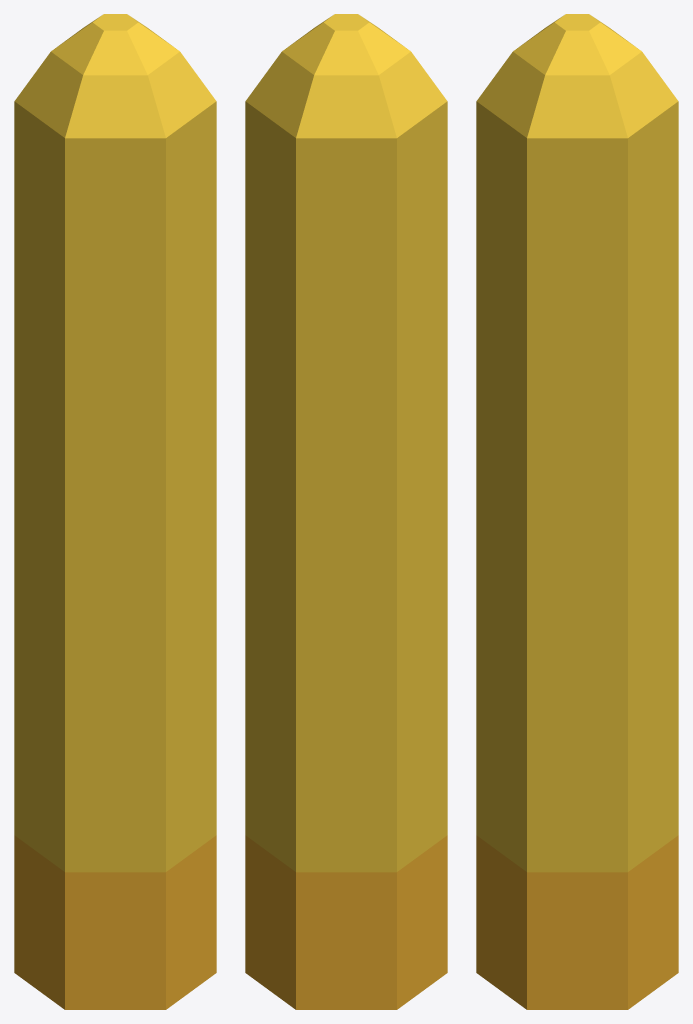
Rendered from fence.fbx.
3 views of the same model, side by side, from view 1: azimuth 30°, elevation 25°; view 2: azimuth 150°, elevation 25°; view 3: azimuth 270°, elevation 25° (orthographic).
Visible parts, largest first — view 1: Fence; view 2: Fence; view 3: Fence.
Boxes of the visible parts, x1=… form: Fence: x1=14, y1=14, x2=216, y2=1009; Fence: x1=245, y1=14, x2=447, y2=1009; Fence: x1=476, y1=14, x2=678, y2=1009.
Bounding box in the file's own units: 0.2357 × 1.41 × 0.2722.
1 material, 1 textured.
